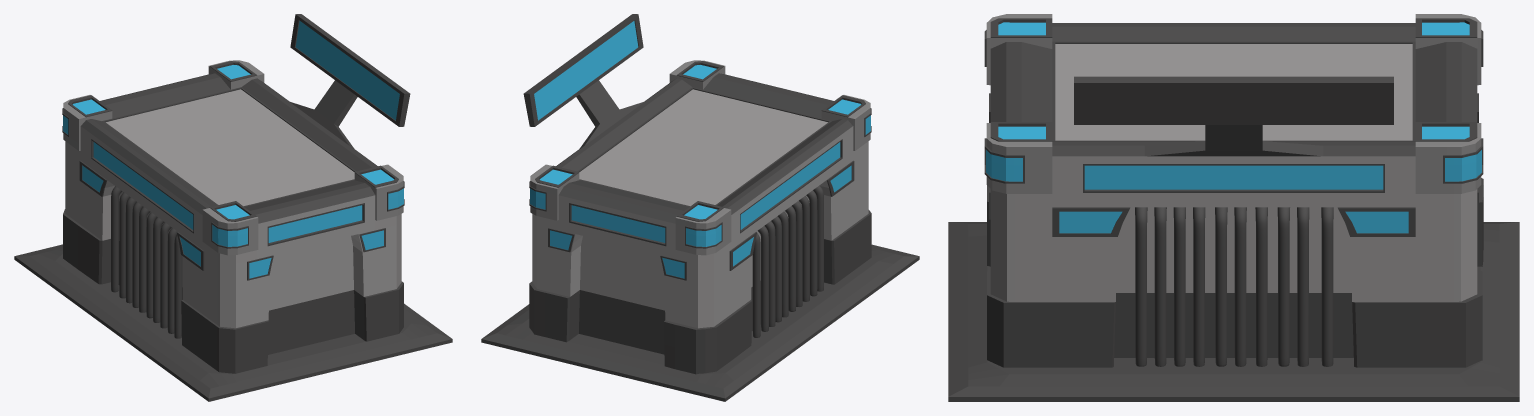
The model's file is Table_CLEANED_newScrean.fbx.
The picture shows the model from 3 angles, left to right: view 1: azimuth 30°, elevation 25°; view 2: azimuth 150°, elevation 25°; view 3: azimuth 270°, elevation 25°; orthographic projection. The views are drawn at different scales.
Visible parts, largest first — view 1: Cube, Cube.003, Cube.001, Cylinder.018, Cylinder.007, Cylinder.020, Cylinder.009, Cylinder.001, Cylinder.017, Cylinder.016, Cylinder.008, Cylinder.002 (+1 smaller); view 2: Cube, Cube.003, Cube.001, Cylinder.008, Cylinder.020, Cylinder.017, Cylinder.018, Cylinder.002, Cylinder.007, Cylinder.001, Cylinder.016, Cylinder.003 (+1 smaller); view 3: Cube, Cube.001, Cube.003, Cylinder.019, Cylinder.031, Cylinder.010, Cylinder.030, Cylinder.004, Cylinder.011, Cylinder.006, Cylinder.012, Cylinder.013 (+1 smaller).
Part boxes in pixels (box(x1,y1,x2,y2)): Cube: box(62, 14, 410, 373); Cube.003: box(106, 89, 354, 206); Cube.001: box(14, 244, 452, 401); Cylinder.018: box(160, 222, 171, 328); Cylinder.007: box(139, 207, 150, 312); Cylinder.020: box(111, 186, 122, 292); Cylinder.009: box(153, 217, 163, 322); Cylinder.001: box(125, 197, 136, 303); Cylinder.017: box(167, 228, 177, 333); Cylinder.016: box(174, 234, 182, 338); Cylinder.008: box(146, 212, 156, 318); Cylinder.002: box(119, 192, 129, 298); Cube: box(523, 14, 871, 374); Cube.003: box(579, 89, 827, 206); Cube.001: box(481, 244, 919, 401); Cylinder.008: box(785, 206, 796, 311); Cylinder.020: box(752, 233, 760, 337); Cylinder.017: box(806, 190, 817, 296); Cylinder.018: box(798, 196, 809, 301); Cylinder.002: box(757, 226, 768, 331); Cylinder.007: box(778, 211, 788, 317); Cylinder.001: box(764, 221, 775, 326); Cylinder.016: box(813, 185, 823, 291); Cylinder.003: box(771, 216, 781, 322); Cube: box(984, 14, 1483, 367); Cube.001: box(948, 222, 1519, 401); Cube.003: box(1055, 44, 1412, 140); Cylinder.019: box(1321, 207, 1333, 366); Cylinder.031: box(1154, 207, 1166, 366); Cylinder.010: box(1234, 207, 1246, 366); Cylinder.030: box(1135, 207, 1147, 366); Cylinder.004: box(1255, 207, 1267, 366); Cylinder.011: box(1215, 207, 1227, 366); Cylinder.006: box(1297, 207, 1309, 366); Cylinder.012: box(1193, 207, 1205, 366); Cylinder.013: box(1173, 207, 1185, 366).
Size of the model in its own units: 674 by 576 by 928.
